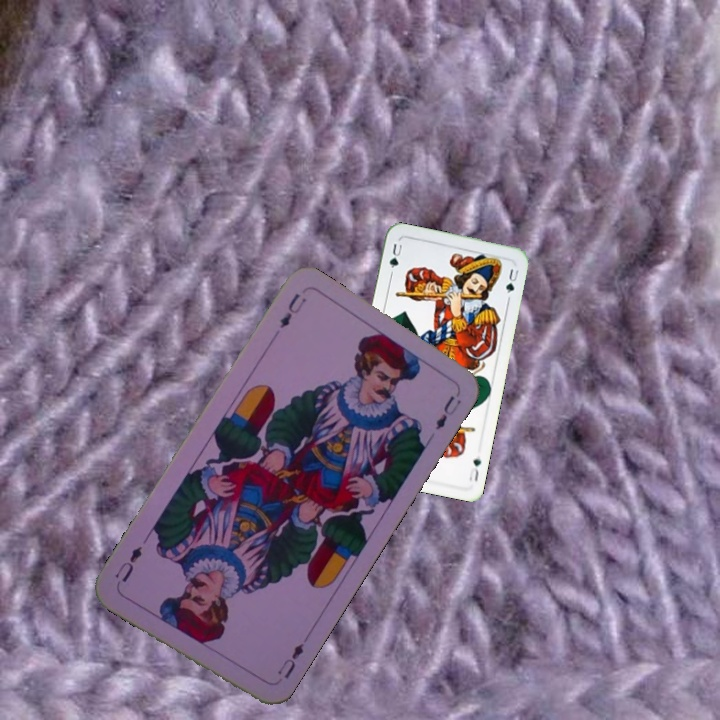EU: (273, 639, 307, 682), (275, 289, 309, 331)
GU: (385, 239, 405, 277), (465, 455, 483, 484)
